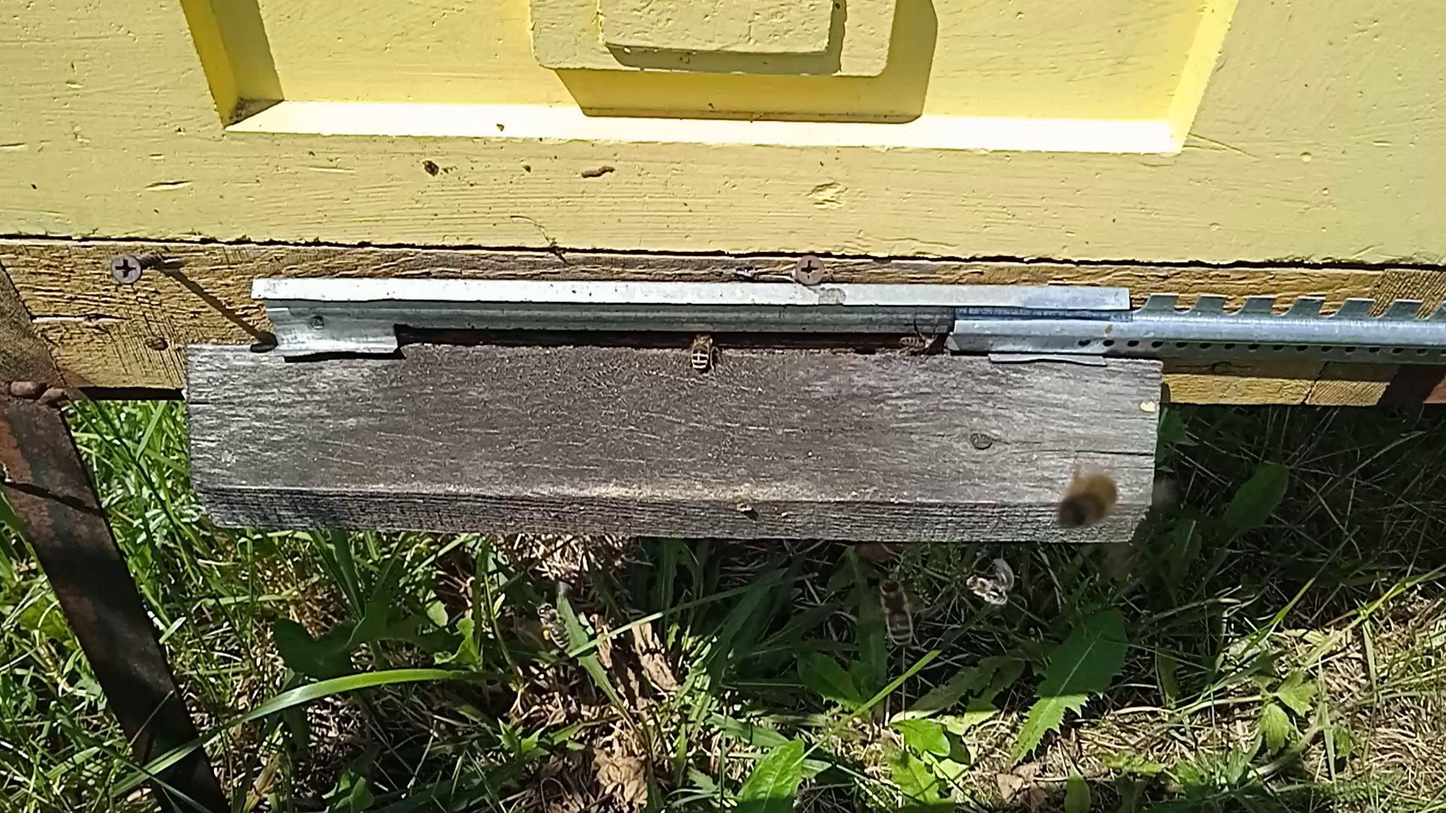worker-bee: (1055, 474, 1118, 531), (878, 578, 916, 648), (536, 601, 571, 648), (965, 572, 1012, 606), (688, 331, 718, 374), (897, 332, 941, 356)
